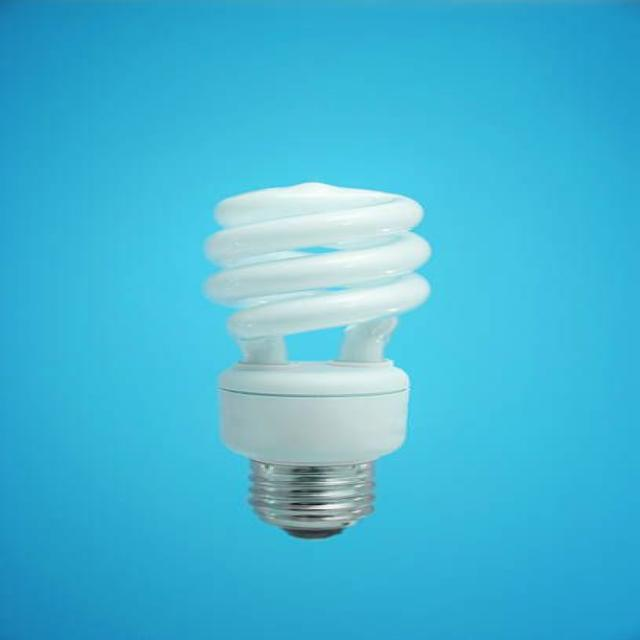electronic: (201, 180, 431, 538)
